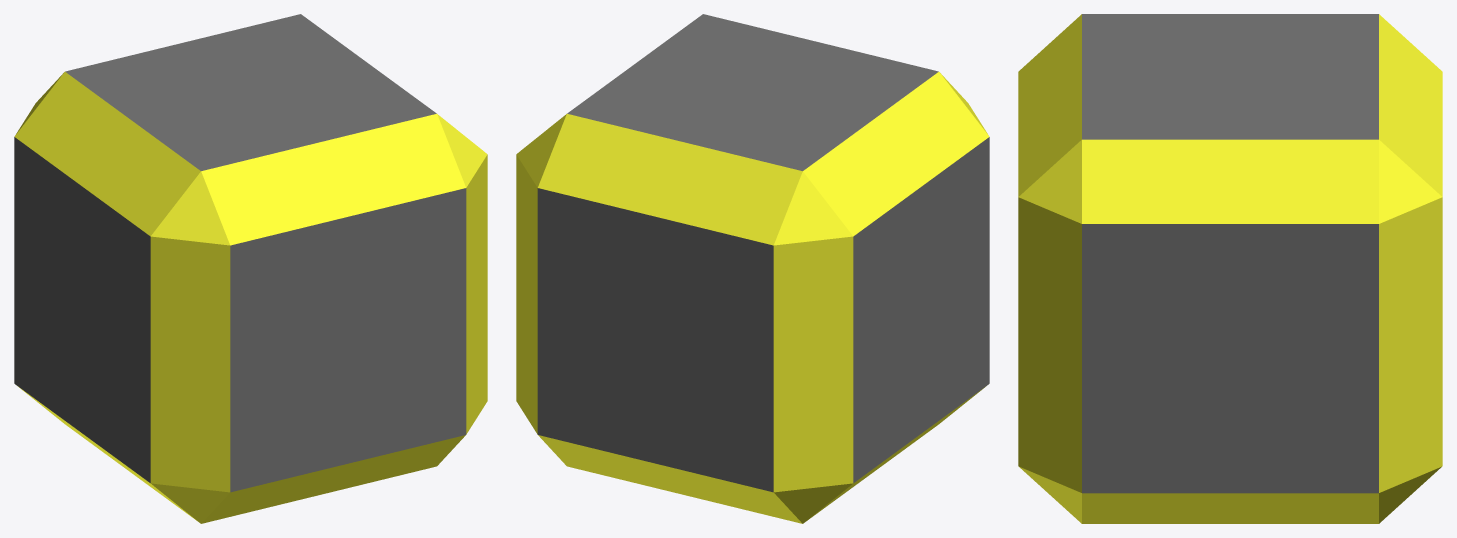
The model's file is MinimapCube.fbx.
3 views of the same model, side by side, from view 1: azimuth 30°, elevation 25°; view 2: azimuth 150°, elevation 25°; view 3: azimuth 270°, elevation 25° (orthographic). The views are drawn at different scales.
Parts seen in each view (by area): view 1: Model; view 2: Model; view 3: Model.
Boxes of the visible parts, x1=… form: Model: x1=14, y1=14, x2=487, y2=523; Model: x1=516, y1=14, x2=989, y2=523; Model: x1=1018, y1=14, x2=1442, y2=523.
Bounding box in the file's own units: 100 × 100 × 100.
